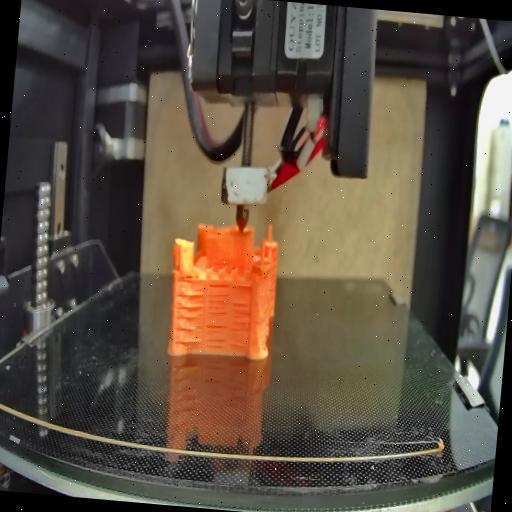cracks: (227, 302, 252, 348), (172, 314, 205, 346), (205, 282, 231, 316), (175, 291, 206, 312), (205, 321, 228, 349), (232, 282, 254, 292)
